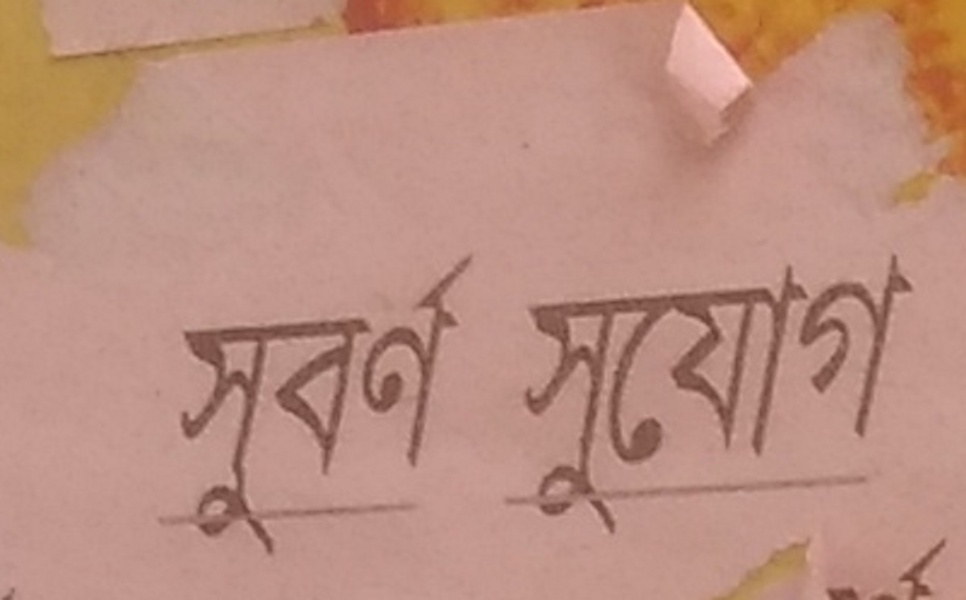text: (193, 243, 208, 560), (209, 243, 224, 560), (225, 243, 240, 560), (241, 243, 256, 560), (257, 243, 272, 560), (273, 243, 288, 560), (289, 243, 304, 560), (305, 243, 320, 560), (321, 243, 336, 560), (337, 243, 352, 560), (353, 243, 368, 560), (369, 243, 384, 560), (385, 243, 400, 560), (401, 243, 416, 560), (417, 243, 432, 560), (433, 243, 448, 560), (449, 243, 464, 560), (178, 243, 192, 560), (529, 249, 544, 540), (545, 249, 560, 540), (561, 249, 576, 540), (577, 249, 592, 540), (593, 249, 608, 540), (609, 249, 624, 540), (625, 249, 640, 540), (641, 249, 656, 540), (657, 249, 672, 540), (673, 249, 688, 540), (689, 249, 704, 540), (705, 249, 720, 540), (721, 249, 736, 540), (737, 249, 752, 540), (753, 249, 768, 540), (769, 249, 784, 540), (785, 249, 800, 540), (801, 249, 816, 540), (817, 249, 832, 540), (833, 249, 848, 540), (849, 249, 864, 540), (865, 249, 880, 540), (881, 249, 896, 540), (897, 249, 912, 540), (514, 249, 528, 540), (465, 243, 477, 560), (833, 537, 848, 598), (849, 537, 864, 598), (865, 537, 880, 598), (881, 537, 896, 598), (897, 537, 912, 598), (913, 537, 928, 598), (929, 537, 944, 598), (822, 537, 832, 598), (913, 249, 915, 540), (945, 537, 949, 598)
